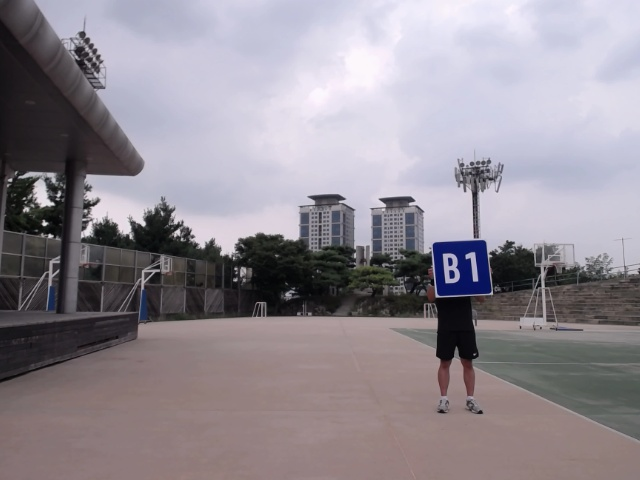delivery_b1: (432, 239, 493, 297)
